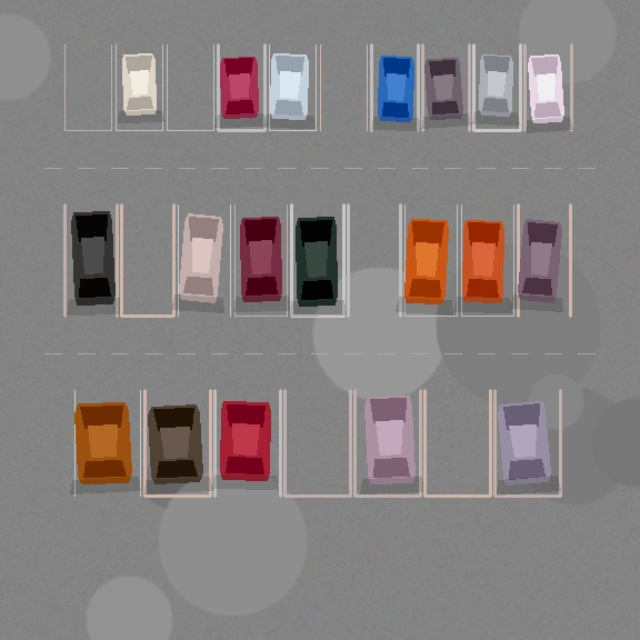space-empty: (284, 390, 350, 496), (424, 390, 490, 496), (121, 204, 173, 316), (348, 204, 400, 316), (64, 44, 111, 130), (320, 44, 367, 130), (167, 44, 213, 130)
space-occupied: (74, 390, 140, 496), (144, 390, 210, 496), (214, 390, 280, 496), (354, 390, 420, 496), (494, 390, 560, 496), (64, 204, 117, 316), (234, 204, 287, 316), (404, 204, 457, 316), (178, 204, 230, 316), (291, 204, 343, 316), (461, 204, 513, 316), (518, 204, 570, 316), (269, 44, 316, 130), (371, 44, 418, 130), (422, 44, 469, 130), (473, 44, 520, 130), (524, 44, 571, 130), (116, 44, 162, 130), (218, 44, 264, 130)
